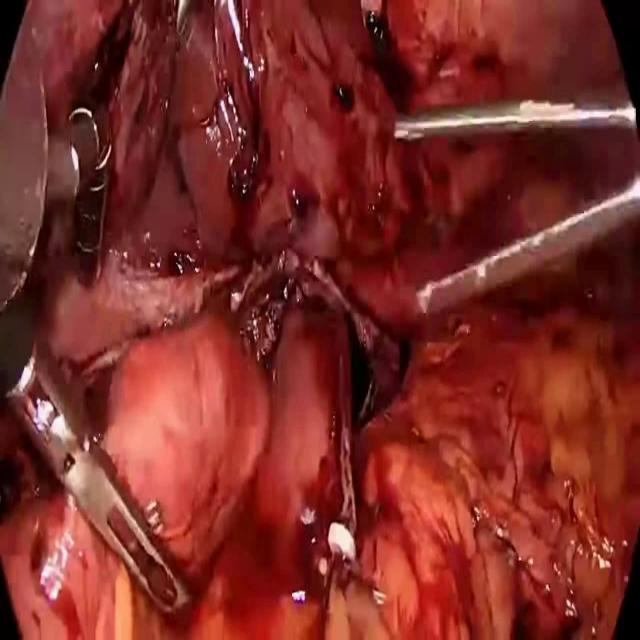surgical-area: (0, 0, 640, 639)
surgical-tool: (0, 292, 198, 620), (416, 173, 640, 314), (49, 99, 112, 287), (395, 100, 636, 140)
